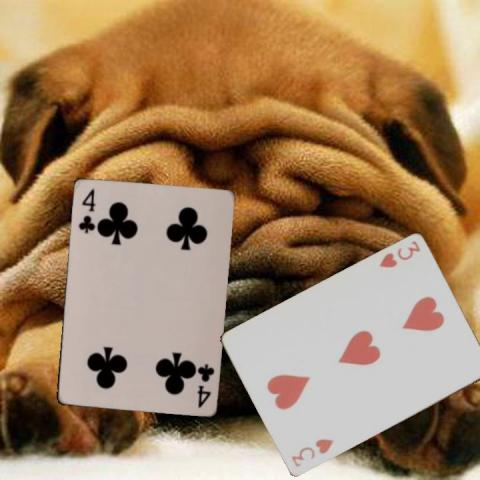3h: (288, 436, 334, 469), (376, 238, 422, 270)
4c: (75, 185, 97, 235), (194, 360, 215, 408)
